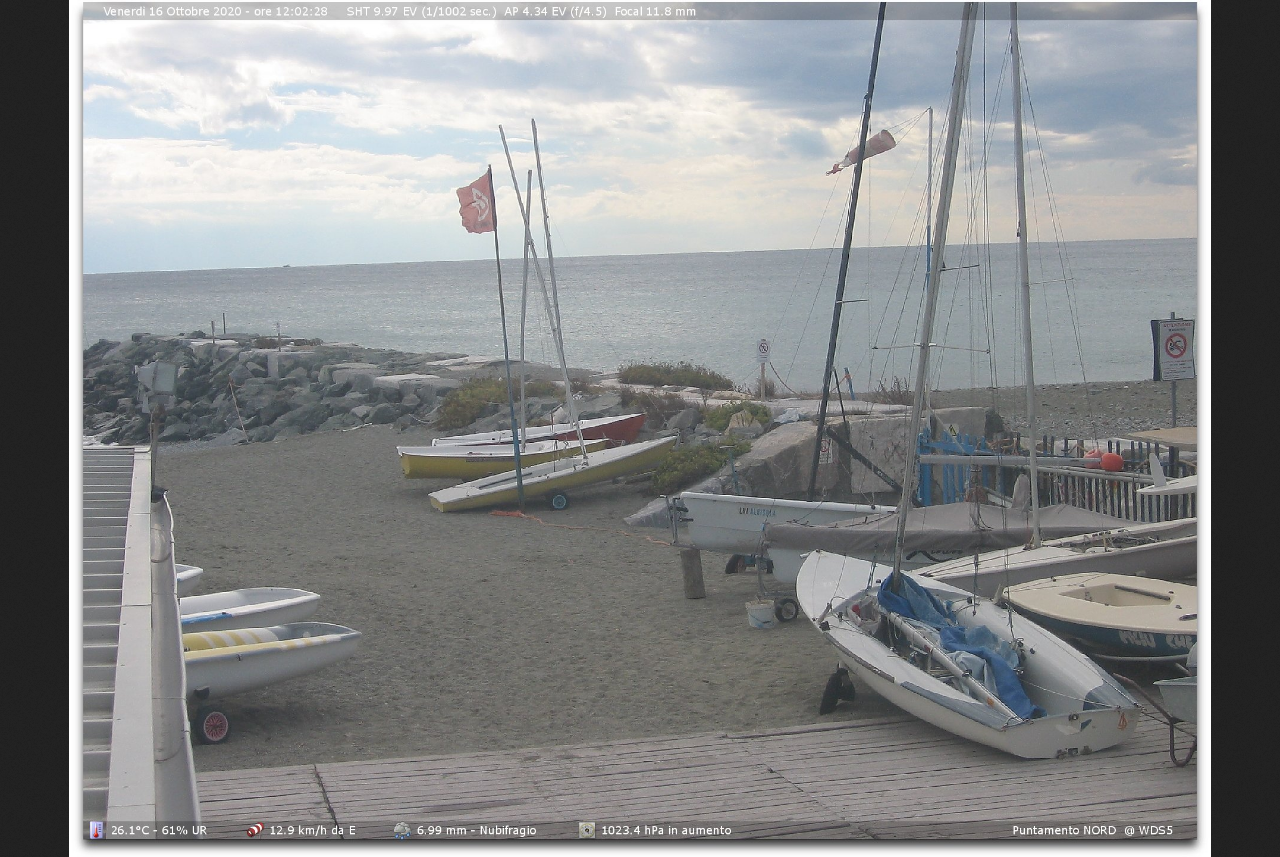yes: (448, 166, 498, 238)
